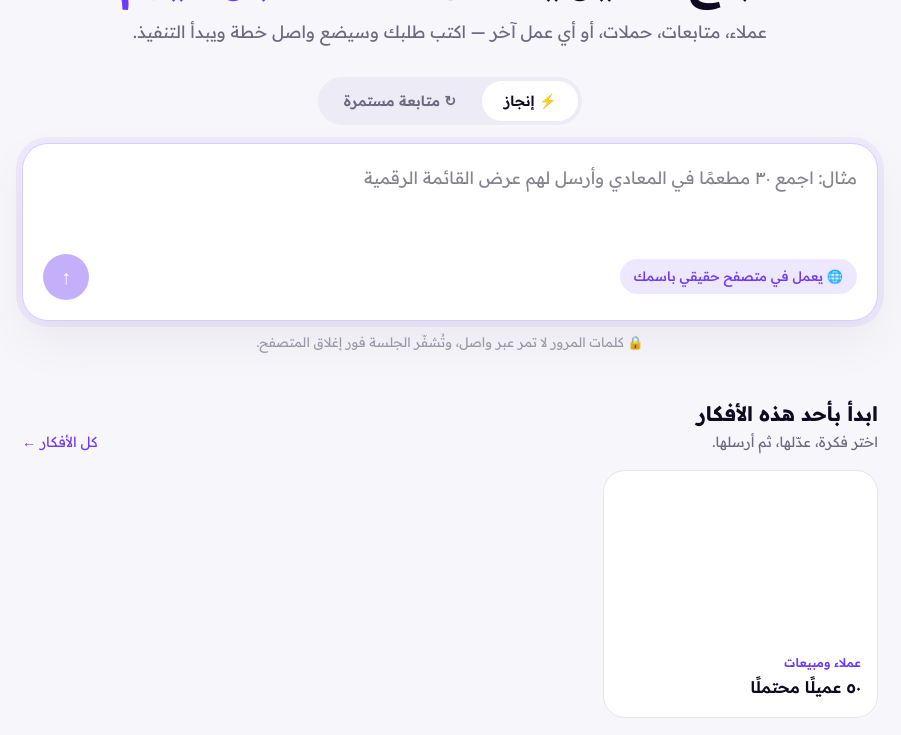
Scenario: fills the request and its role from a suggested template
(page scrolled)
Click the text "٥٠ عميلًا محتملًا" at (806, 687), box [750,677,861,697]
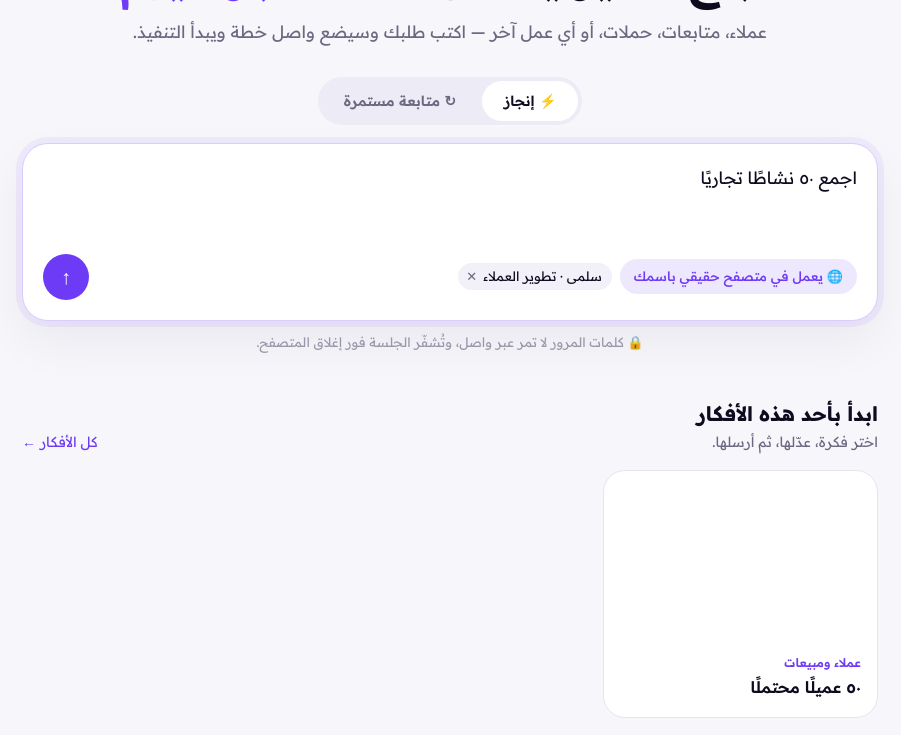
Now the text box named "طلبك" holds "اجمع ٥٠ نشاطًا تجاريًا", box [43,164,857,248]
Now the text "سلمى · تطوير العملاء" is shown, box [458,263,612,290]
